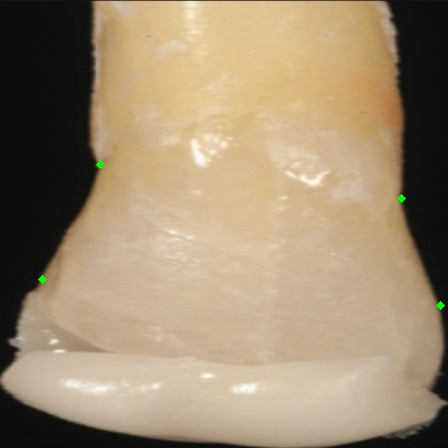coin_1: (100, 164, 120, 184)
coin_2: (42, 279, 62, 299)
coin_3: (401, 198, 421, 218)
coin_4: (440, 305, 448, 325)
